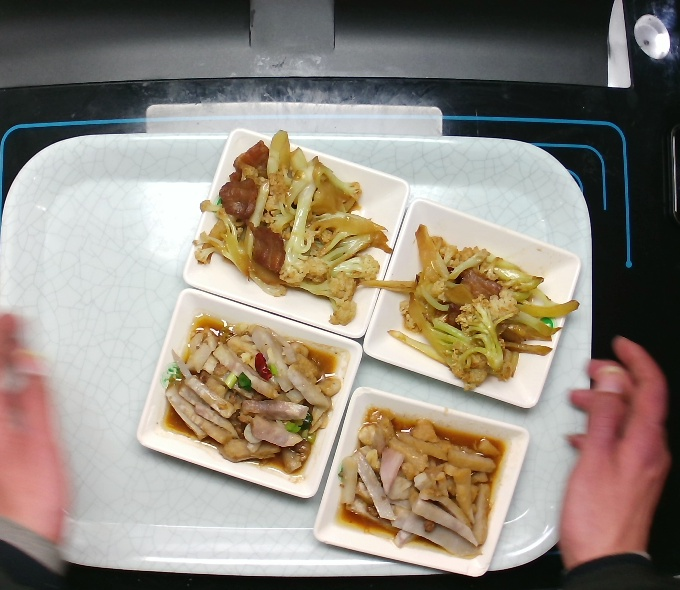wcq-QiuCaiChaoRou: (195, 119, 390, 324), (390, 217, 585, 395)
wcq-YuTou: (333, 405, 519, 564), (159, 313, 345, 472)
